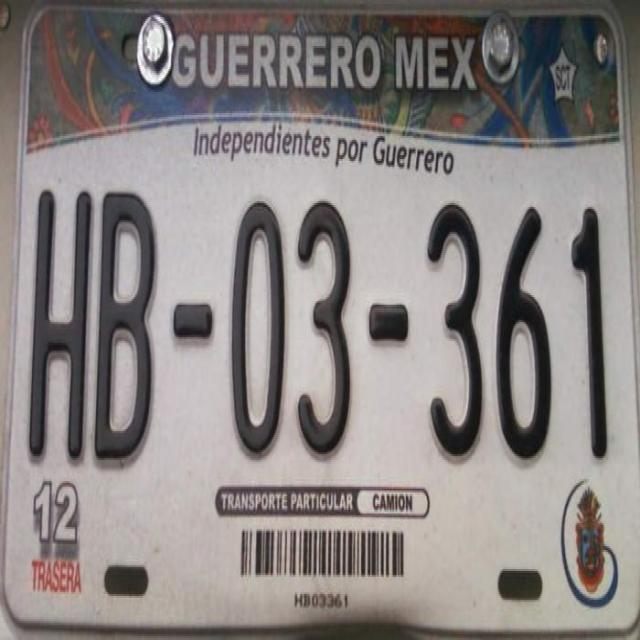placa: (23, 172, 630, 479)
